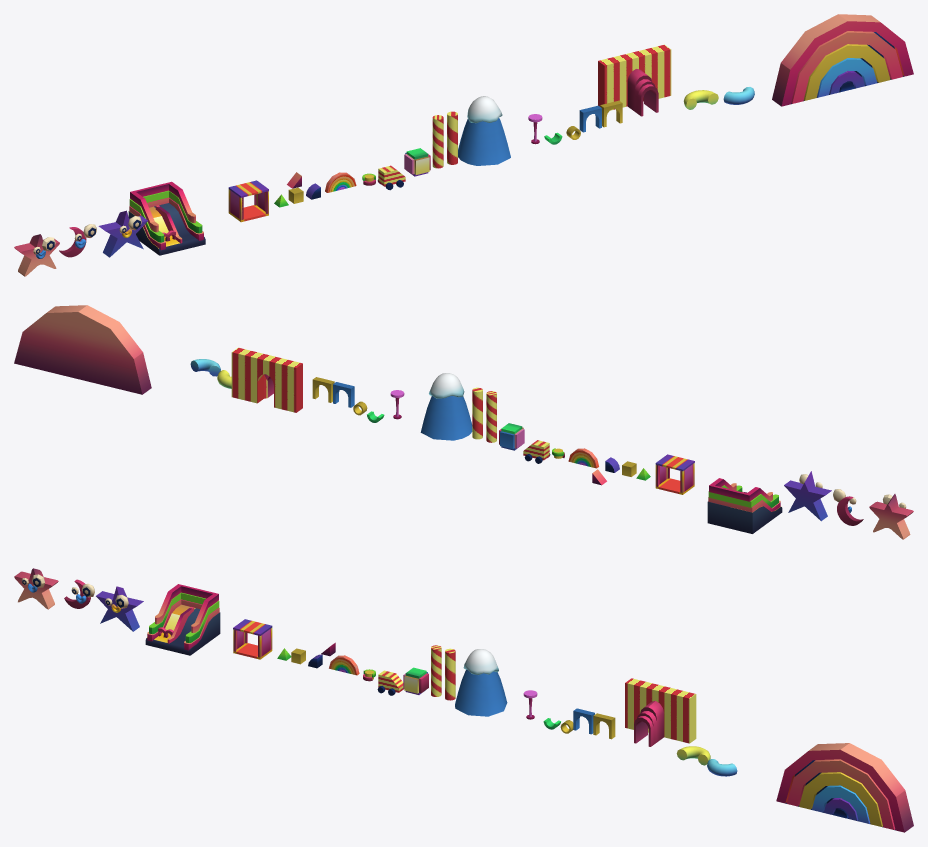
File: Primitives.fbx
3 renders of one model, top to bottom at view 1: azimuth 30°, elevation 25°; view 2: azimuth 150°, elevation 25°; view 3: azimuth 330°, elevation 25°, orthographic. The views are drawn at different scales.
Parts seen in each view (by area): view 1: Circle.001, Enterance, Slide, Mountain, Gloink1, Gloink1.001, StripeCylinder, Cube2, StripeCylinder.001, Cylinder.001; view 2: Circle.001, Enterance, Slide, Mountain, Gloink1, Gloink1.001, Cube2, Cylinder.001, StripeCylinder.001, StripeCylinder; view 3: Circle.001, Enterance, Slide, Mountain, Gloink1, Gloink1.001, Cube2, StripeCylinder.001, StripeCylinder.
Boxes of the visible parts, left/top/right/bottom form: Circle.001: left=772, top=14, right=913, bottom=106; Enterance: left=598, top=44, right=671, bottom=116; Slide: left=128, top=181, right=205, bottom=255; Mountain: left=458, top=96, right=510, bottom=165; Gloink1: left=98, top=210, right=147, bottom=257; Gloink1.001: left=14, top=234, right=59, bottom=276; StripeCylinder: left=432, top=115, right=443, bottom=168; Cube2: left=404, top=148, right=430, bottom=176; StripeCylinder.001: left=447, top=111, right=457, bottom=164; Cylinder.001: left=59, top=224, right=96, bottom=257; Circle.001: left=14, top=305, right=151, bottom=394; Enterance: left=231, top=347, right=302, bottom=412; Slide: left=707, top=478, right=782, bottom=533; Mountain: left=420, top=373, right=472, bottom=440; Gloink1: left=784, top=471, right=831, bottom=521; Gloink1.001: left=869, top=494, right=913, bottom=539; Cube2: left=499, top=423, right=524, bottom=450; Cylinder.001: left=833, top=489, right=863, bottom=525; StripeCylinder.001: left=472, top=387, right=482, bottom=439; StripeCylinder: left=486, top=391, right=496, bottom=442; Circle.001: left=776, top=743, right=913, bottom=832; Enterance: left=625, top=678, right=696, bottom=746; Slide: left=145, top=584, right=220, bottom=655; Mountain: left=455, top=649, right=507, bottom=716; Gloink1: left=96, top=586, right=143, bottom=631; Gloink1.001: left=14, top=568, right=58, bottom=609; Cube2: left=403, top=667, right=428, bottom=694; StripeCylinder.001: left=445, top=648, right=455, bottom=700; StripeCylinder: left=431, top=645, right=441, bottom=696.
Size of the model in its own units: 29105 by 2627 by 1921.
Materials: 3 (3 with a texture image).
